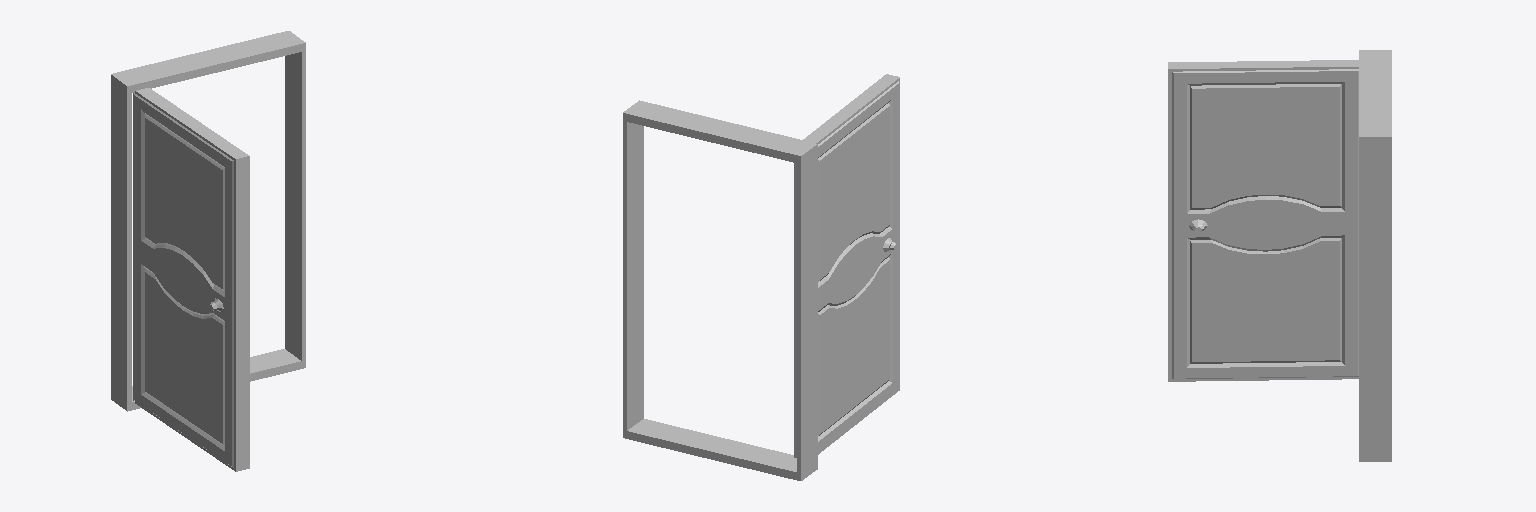
Rendered from drzwiok_000006.obj.
The picture shows the model from 3 angles: view 1: azimuth 30°, elevation 25°; view 2: azimuth 150°, elevation 25°; view 3: azimuth 270°, elevation 25°; orthographic projection.
Parts seen in each view (by area): view 1: Door_4.001_Cube.001, Kostka; view 2: Door_4.001_Cube.001, Kostka; view 3: Door_4.001_Cube.001, Kostka.
Part boxes in pixels (x1,y1,x2,y2): Door_4.001_Cube.001: (133, 88, 249, 471); Kostka: (111, 31, 305, 411); Door_4.001_Cube.001: (794, 74, 899, 457); Kostka: (623, 100, 817, 480); Door_4.001_Cube.001: (1168, 60, 1358, 381); Kostka: (1359, 50, 1391, 461).
Size of the model in its own units: 0.7416 by 1.29 by 0.809.